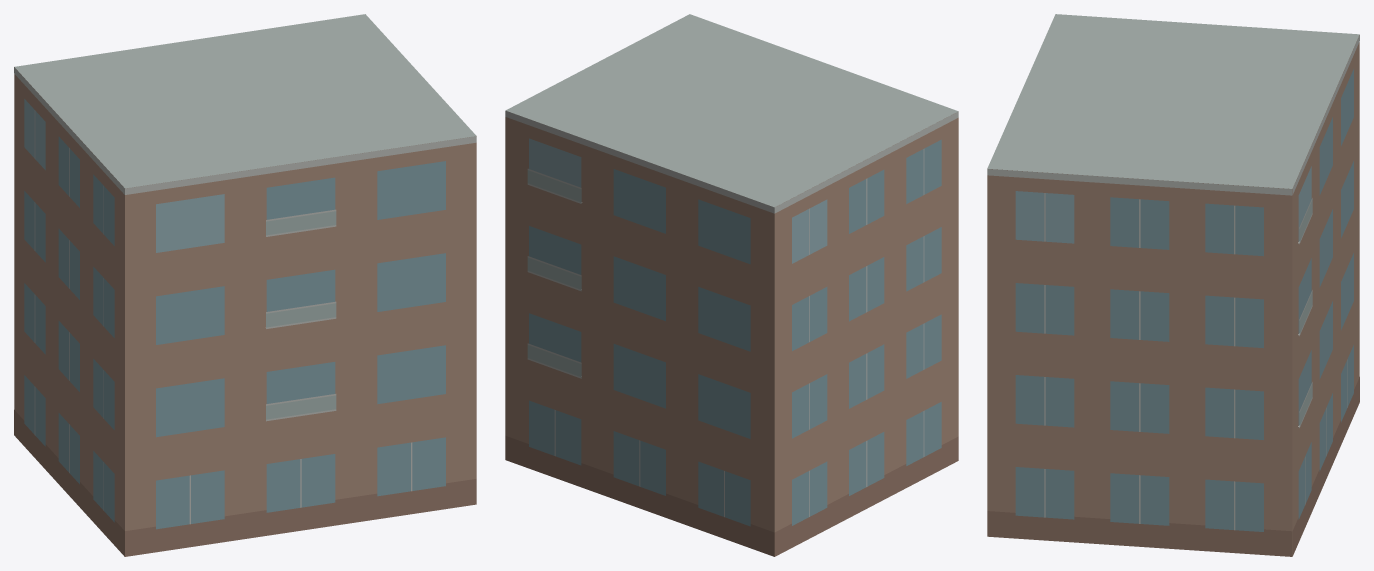
The model's file is survey-upis-32801207.glb.
3 renders of one model, left to right at view 1: azimuth 30°, elevation 25°; view 2: azimuth 150°, elevation 25°; view 3: azimuth 270°, elevation 25°, orthographic. The views are drawn at different scales.
Visible parts, largest first — view 1: survey-upis-32801207.tmp; view 2: survey-upis-32801207.tmp; view 3: survey-upis-32801207.tmp.
Boxes of the visible parts, left/top/right/bottom form: survey-upis-32801207.tmp: left=14, top=14, right=476, bottom=556; survey-upis-32801207.tmp: left=505, top=14, right=958, bottom=556; survey-upis-32801207.tmp: left=987, top=14, right=1359, bottom=556.
Size of the model in its own units: 13.83 by 13.55 by 12.45.
